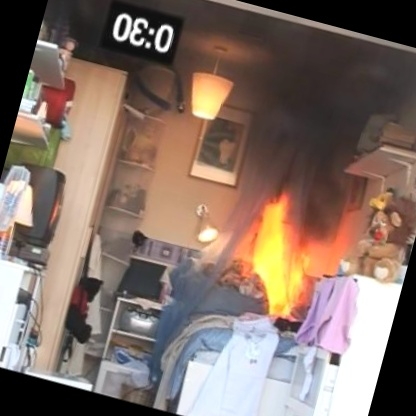fire: (238, 197, 333, 317)
